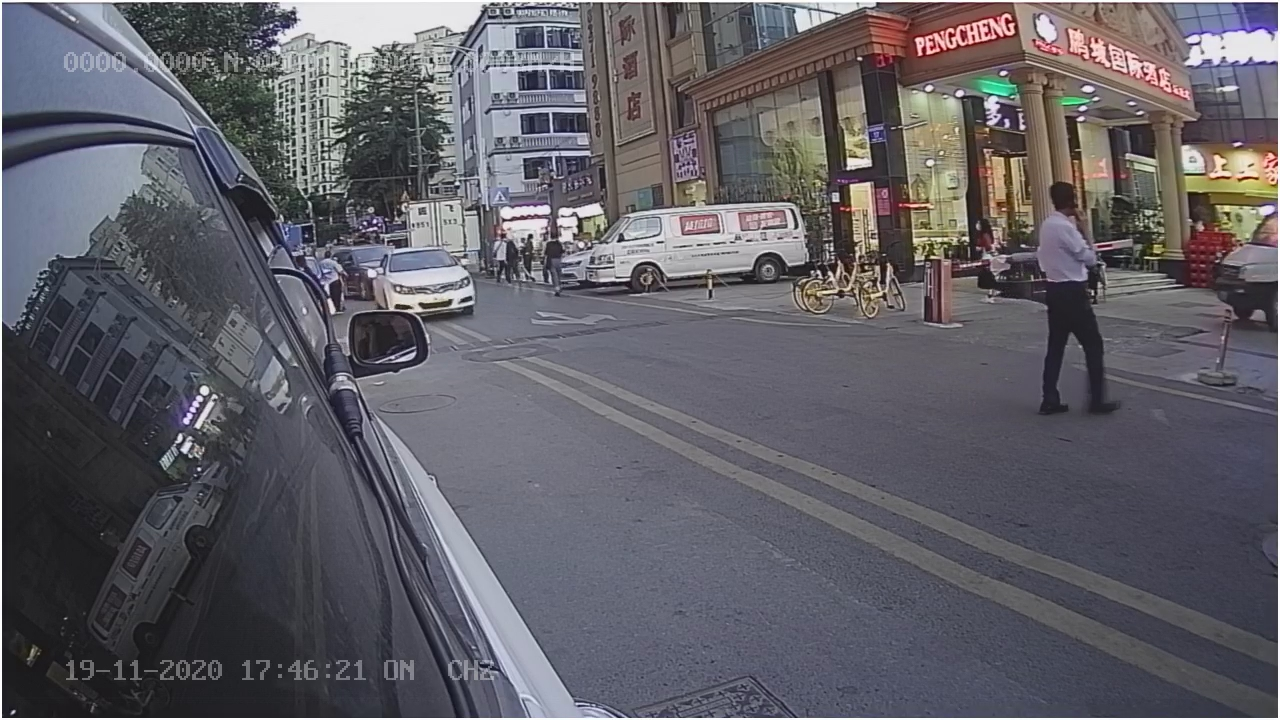person: (1032, 177, 1127, 426)
